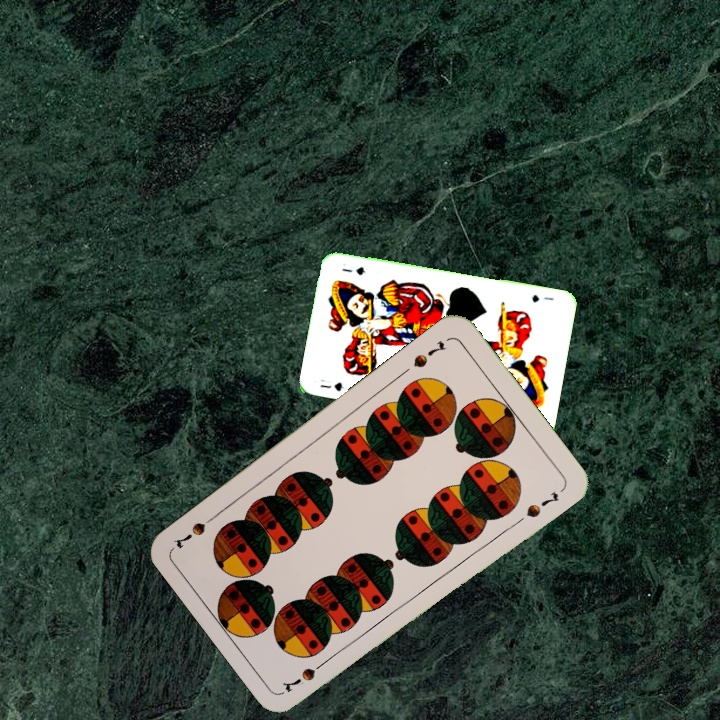GU: (316, 375, 347, 394), (528, 290, 556, 305)
S7: (279, 654, 332, 695), (409, 336, 449, 371)
